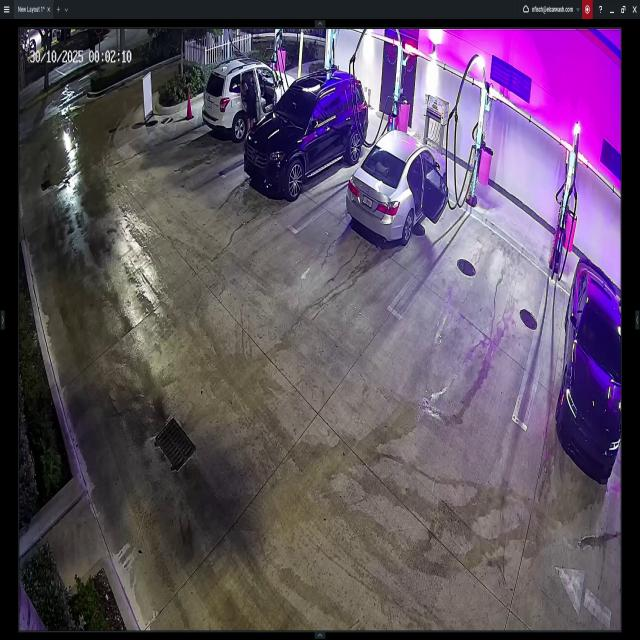Car: (248, 70, 368, 198), (553, 258, 619, 486), (346, 129, 448, 249), (201, 54, 286, 138)
